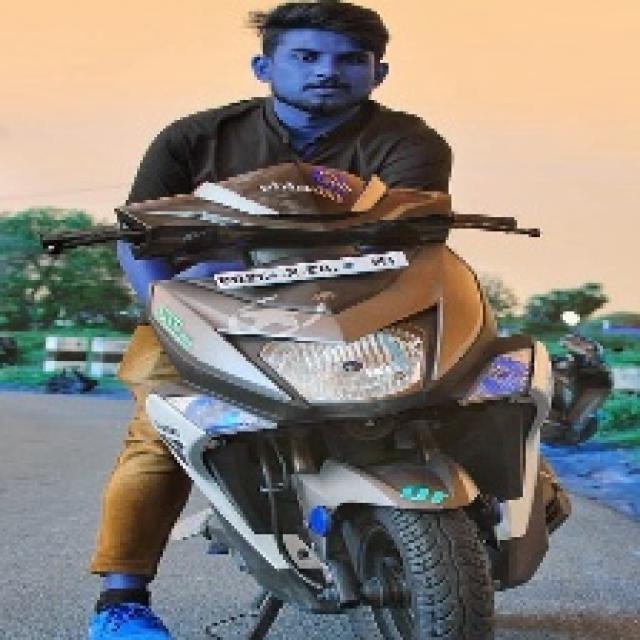motorcycle: (117, 194, 588, 624)
